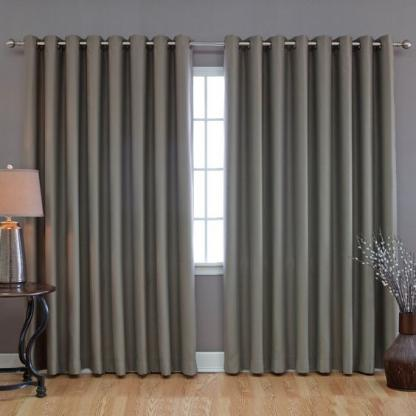Curtains: (21, 34, 400, 384)
Wooden floor: (0, 372, 416, 416)
